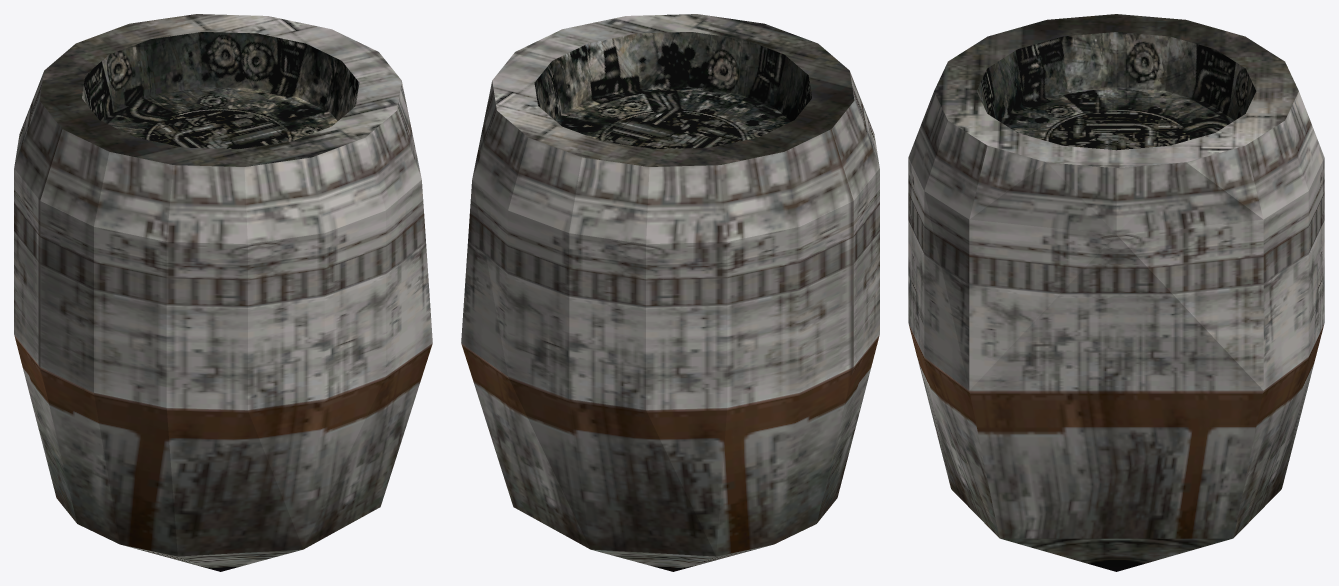
The model's file is thm_tato_lucky_despot_debris_md_engine_l0.fbx.
3 views of the same model, side by side, from view 1: azimuth 30°, elevation 25°; view 2: azimuth 150°, elevation 25°; view 3: azimuth 270°, elevation 25° (orthographic).
Visible parts, largest first — view 1: mesh_node; view 2: mesh_node; view 3: mesh_node.
Boxes of the visible parts, bbox=[...] form: mesh_node: bbox=[14, 14, 432, 571]; mesh_node: bbox=[461, 14, 879, 571]; mesh_node: bbox=[908, 14, 1324, 571].
Bounding box in the file's own units: 21.34 × 29 × 22.74.
